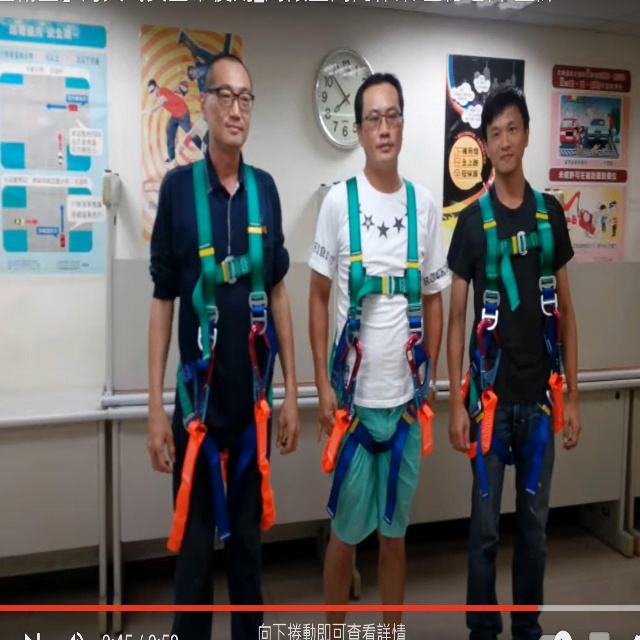Arnes_seguridad: (166, 161, 276, 564), (322, 171, 436, 536), (468, 184, 566, 517)
